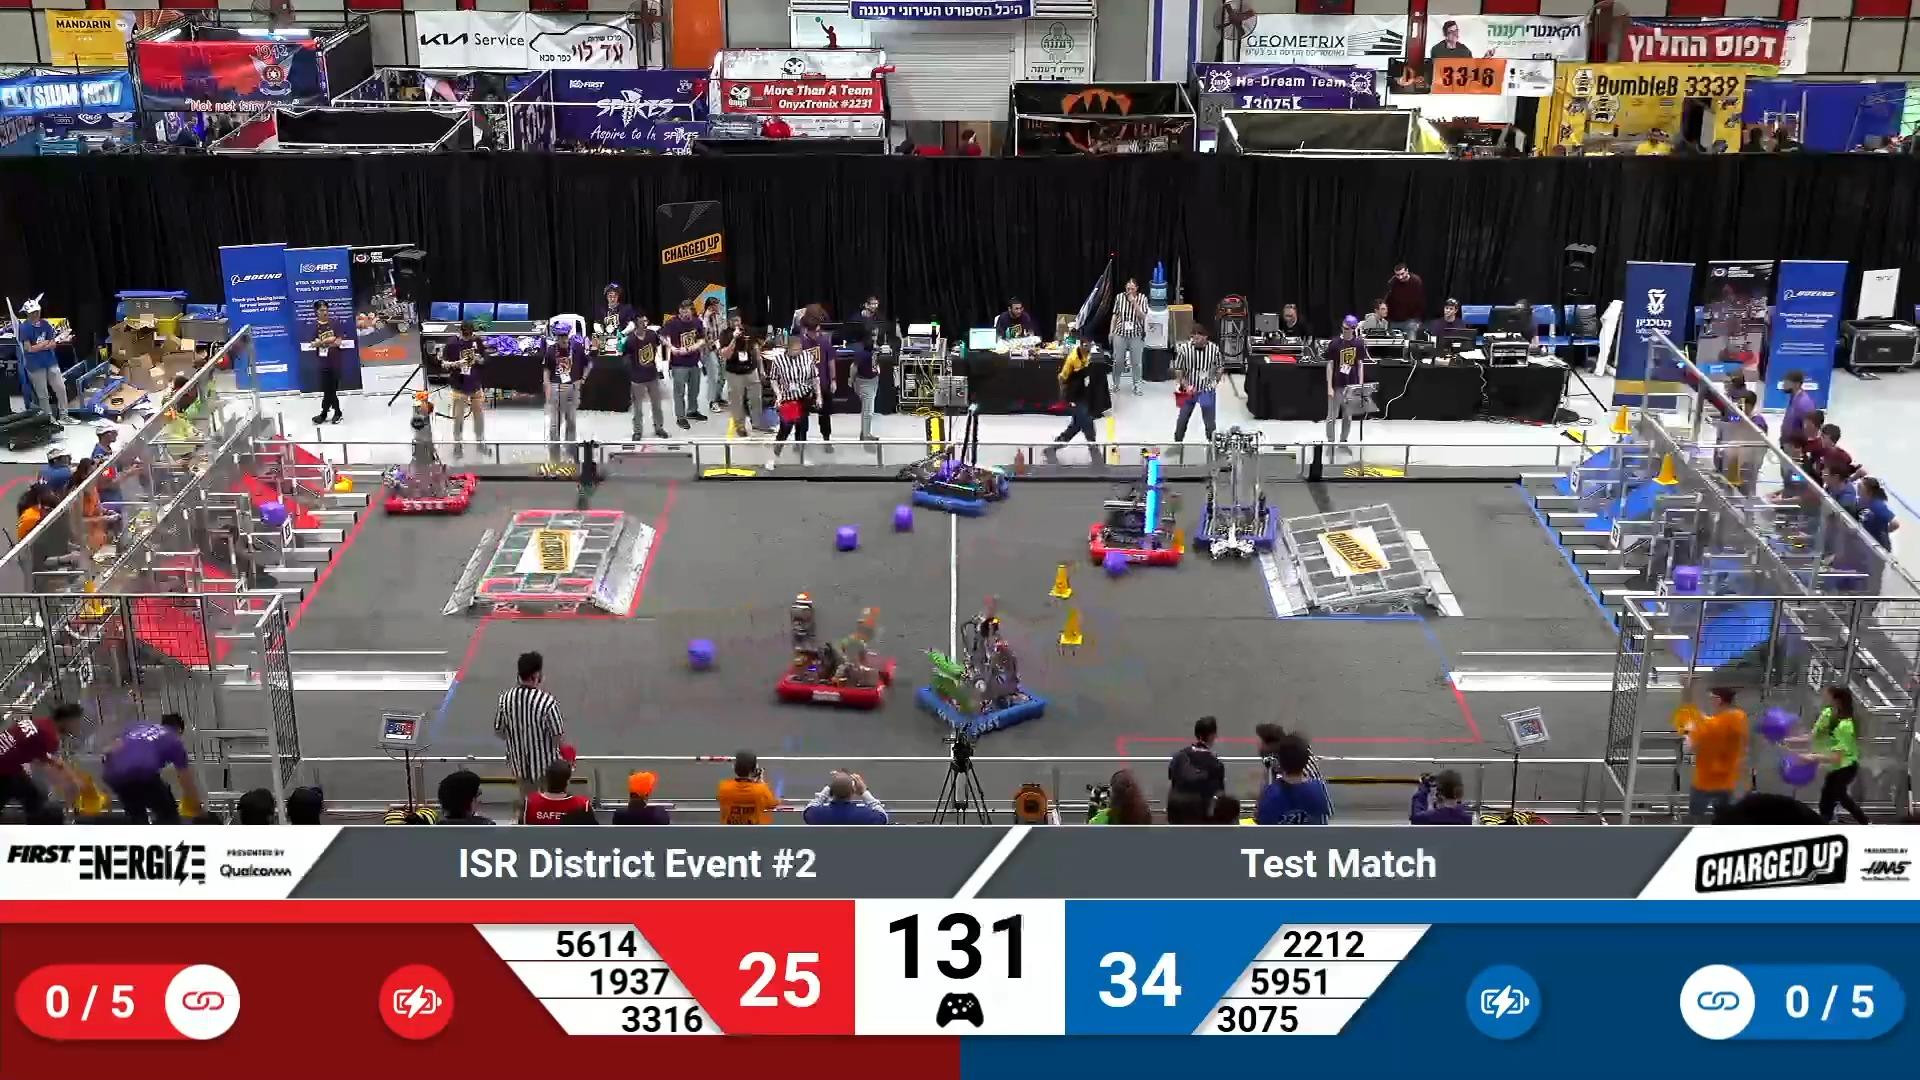robot: (916, 593, 1047, 738), (775, 587, 899, 711), (381, 392, 476, 516), (907, 405, 1015, 513), (1193, 425, 1278, 559), (1088, 450, 1183, 564)
